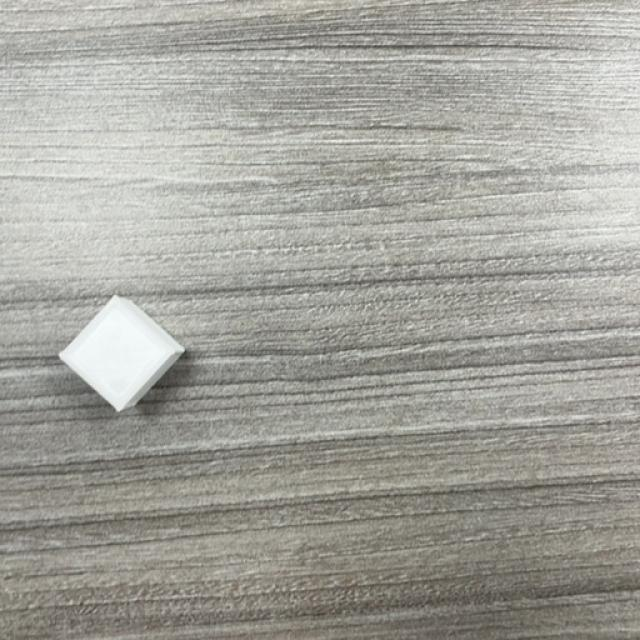Blanco: (58, 296, 186, 415)
